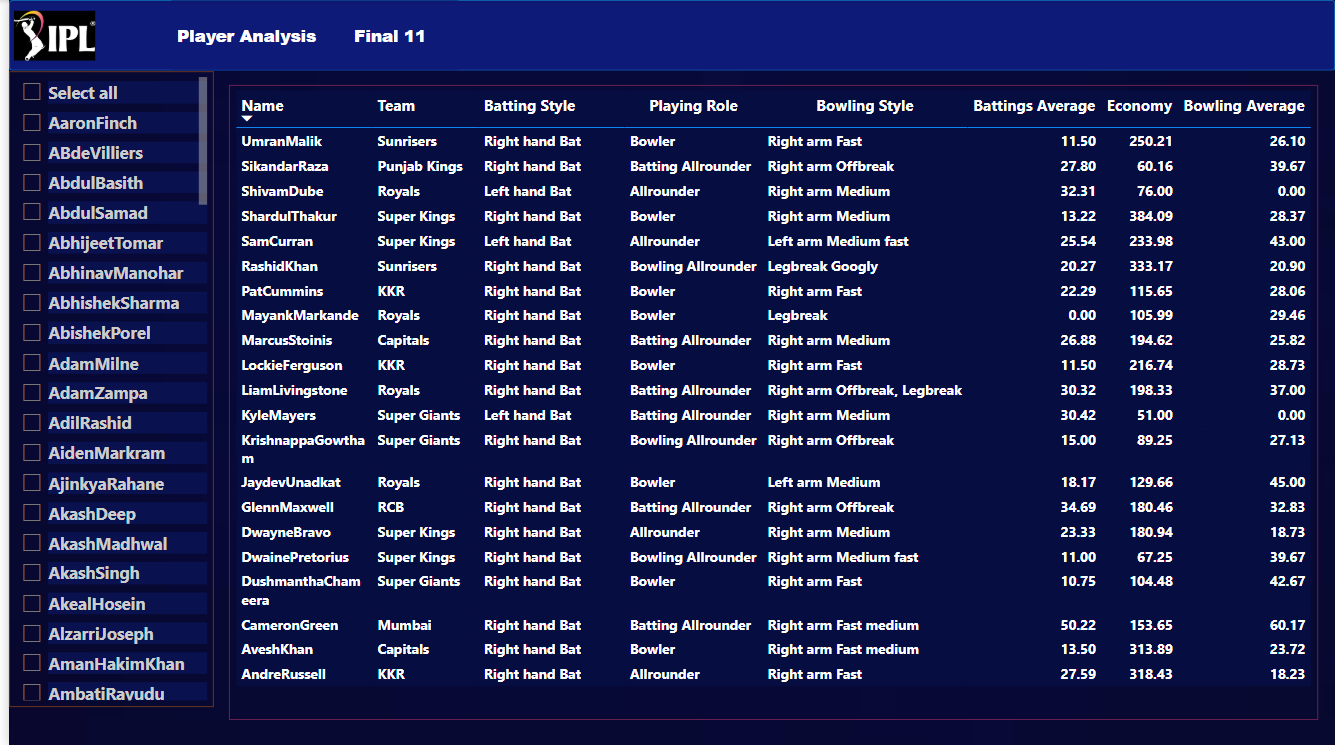

This screenshot's page, from the dashboard's own definition file:
{"tool":"powerbi","page":{"name":"Final 11","canvas":[1280,720],"ordinal":5},"visuals":[{"type":"shape","box":[0,0,1280,68.3],"z":0},{"type":"actionButton","box":[156.4,0,145.1,68.3],"z":1000},{"type":"actionButton","box":[301.5,0,132.3,68.3],"z":2000},{"type":"tableEx","fields":{"Values":["dim_players.name","dim_players.team","dim_players.battingStyle","dim_players.playingRole","dim_players.bowlingStyle","__Measures.Battings Average","Sum(fact_bowling_summary.economy)","__Measures.Bowling Average"]},"box":[211.9,82.5,1051,613],"z":3000},{"type":"slicer","fields":{"Values":["dim_players.name"]},"box":[0,68.9,197.3,613.5],"z":4000},{"type":"image","box":[0,0,88.1,68.8],"z":5000}]}

Visuals, with their boxes on the page's 1280x720 design canvas (x1, y1, x2, y2). These are canvas units, not pixel positions in the 1335x745 screenshot, which may show the page scaled, cropped or inside an application window:
shape: {"left": 0, "top": 0, "right": 1280, "bottom": 68}
actionButton: {"left": 156, "top": 0, "right": 302, "bottom": 68}
actionButton: {"left": 302, "top": 0, "right": 434, "bottom": 68}
tableEx - dim_players.name x dim_players.team: {"left": 212, "top": 82, "right": 1263, "bottom": 696}
slicer - dim_players.name: {"left": 0, "top": 69, "right": 197, "bottom": 682}
image: {"left": 0, "top": 0, "right": 88, "bottom": 69}
